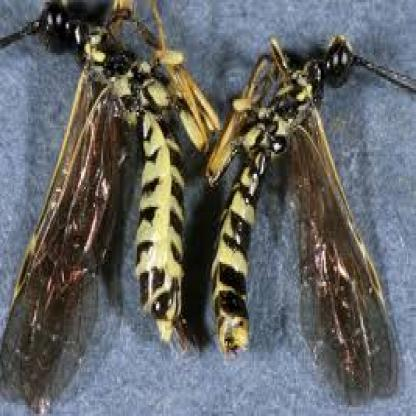sawfly: (0, 2, 212, 415), (203, 0, 415, 412)
